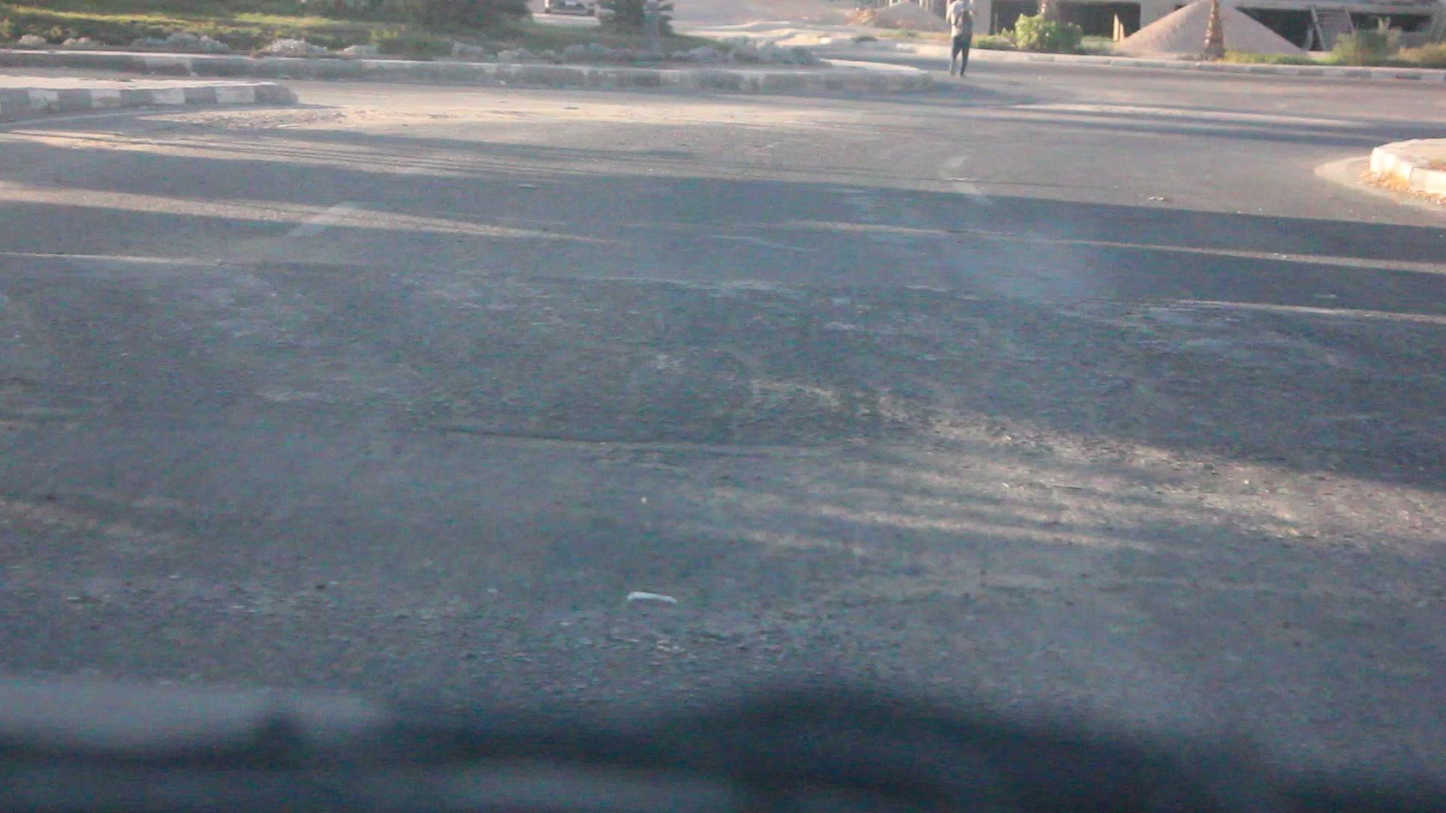Bump: (0, 271, 1446, 457)
